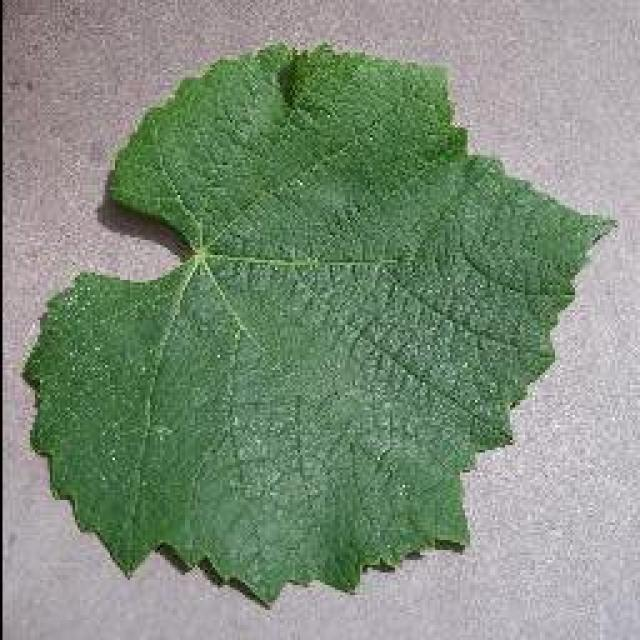Grape___healthy: (23, 36, 621, 615)
